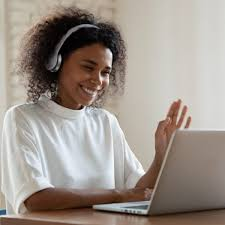listening: (45, 20, 125, 107)
